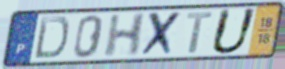0: (72, 13, 105, 60)
D: (33, 15, 72, 61)
H: (102, 11, 149, 59)
T: (185, 11, 215, 55)
U: (208, 7, 260, 56)
X: (138, 10, 184, 59)
